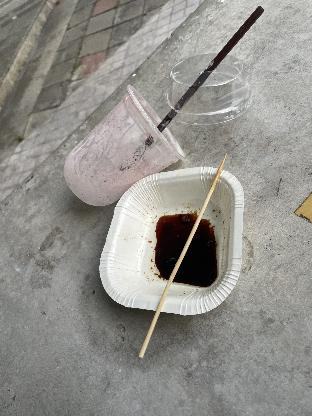Plastic Cup: (95, 167, 239, 317), (62, 80, 176, 206), (163, 53, 253, 118)
